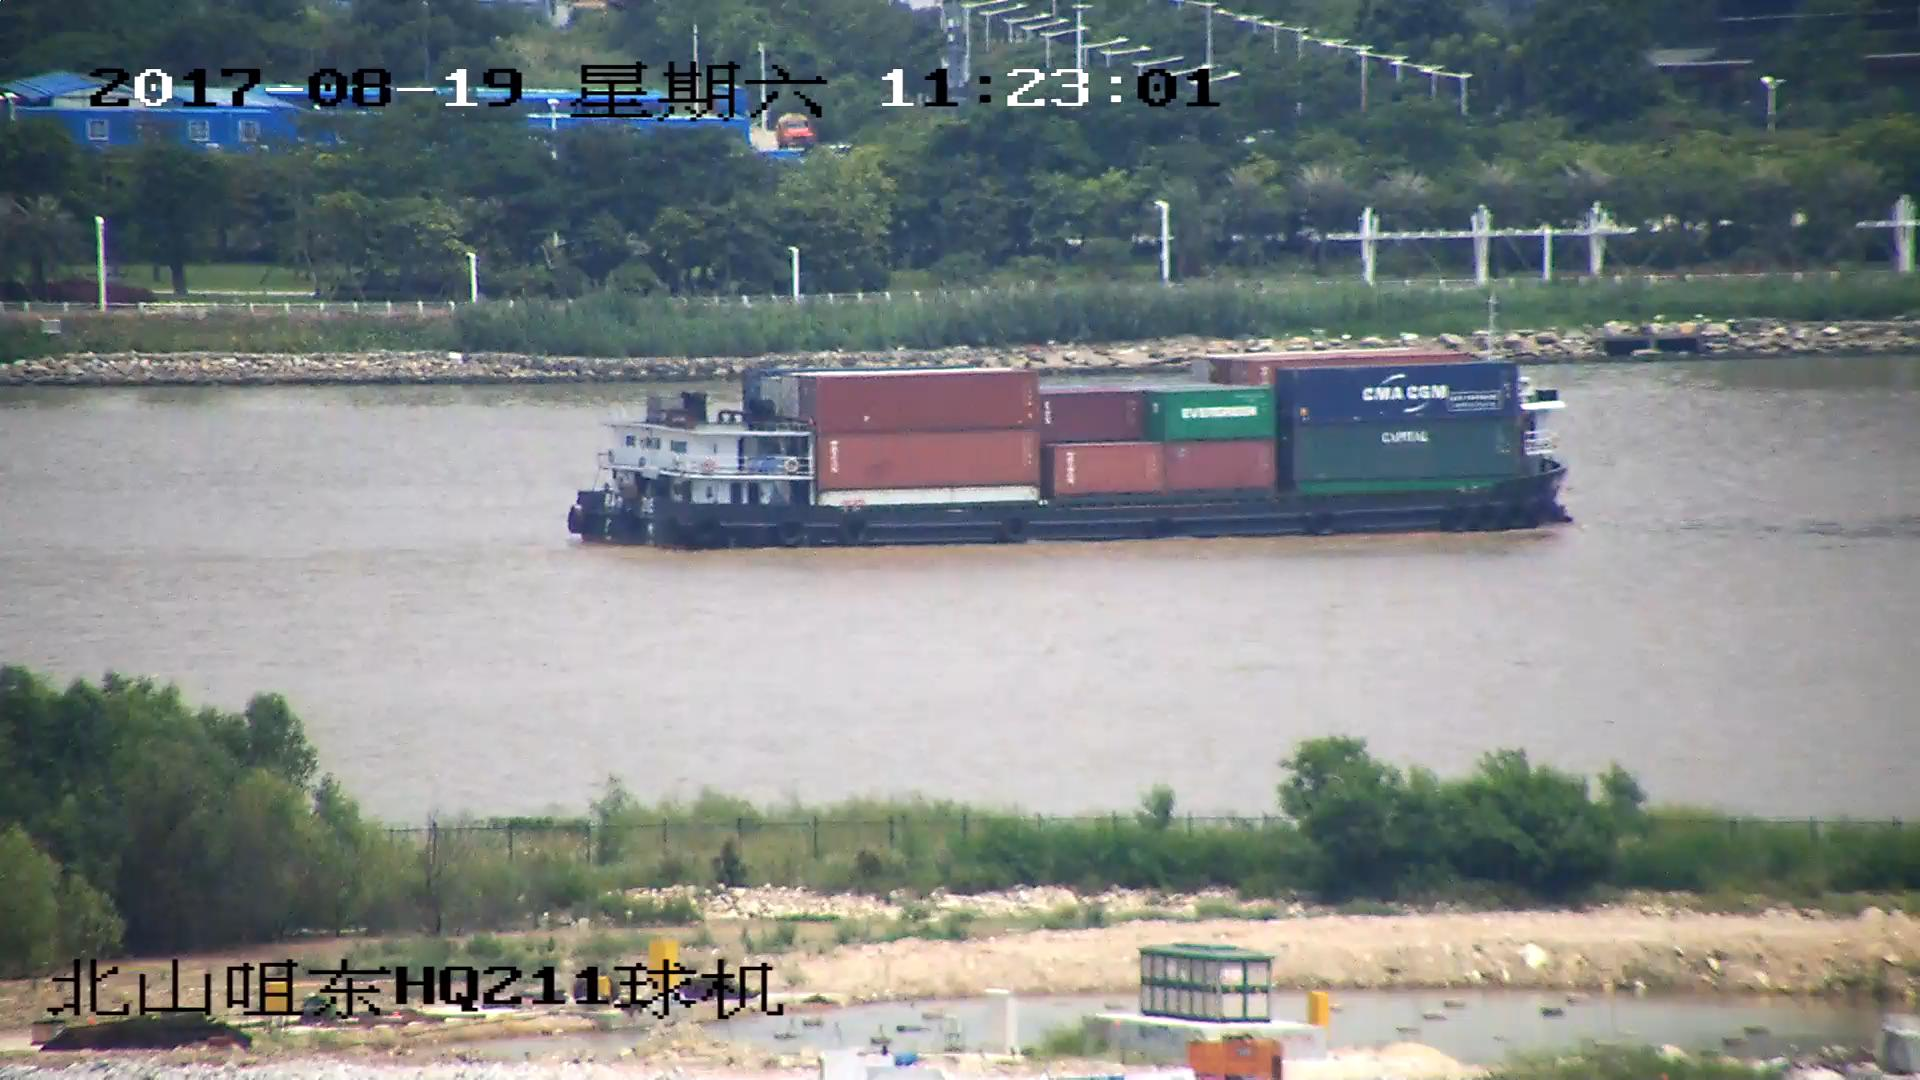container ship: (571, 299, 1565, 548)
